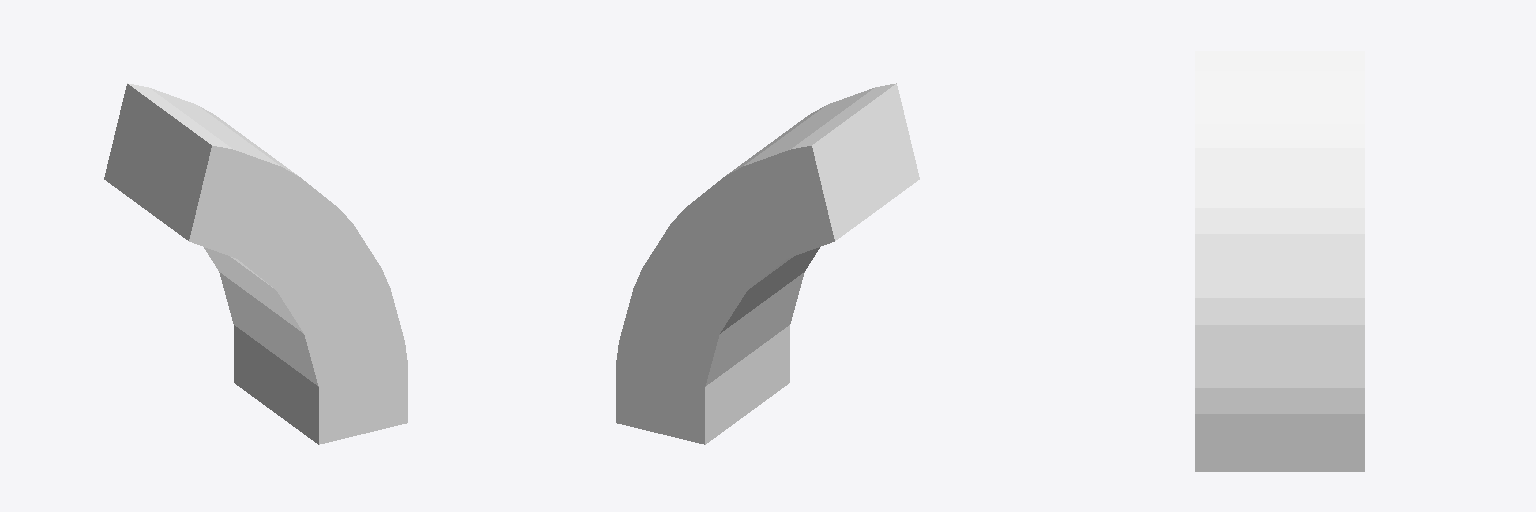
Rendered from smooth_round_arch_3.obj.
3 views of the same model, side by side, from view 1: azimuth 30°, elevation 25°; view 2: azimuth 150°, elevation 25°; view 3: azimuth 270°, elevation 25° (orthographic).
Visible parts, largest first — view 1: cube.023; view 2: cube.023; view 3: cube.023.
Boxes of the visible parts, x1=… form: cube.023: x1=104, y1=83, x2=407, y2=444; cube.023: x1=616, y1=83, x2=919, y2=444; cube.023: x1=1195, y1=51, x2=1364, y2=471.
Size of the model in its own units: 1.55 by 2.2 by 1.04.